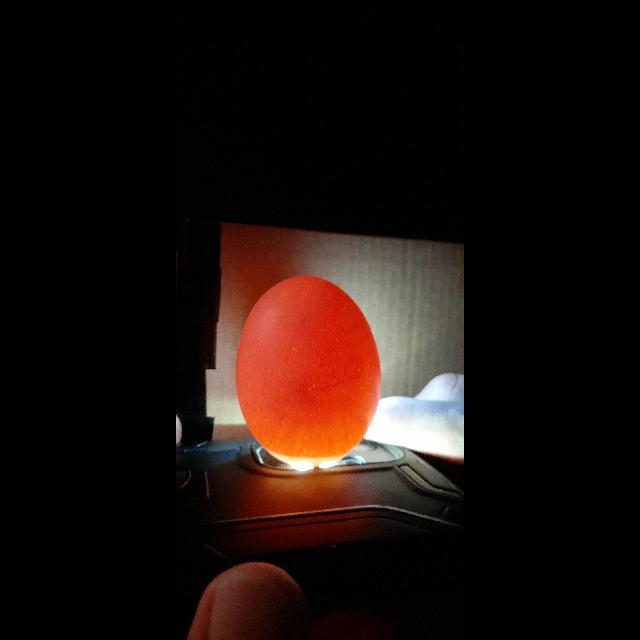Fertile: (235, 274, 388, 461)
